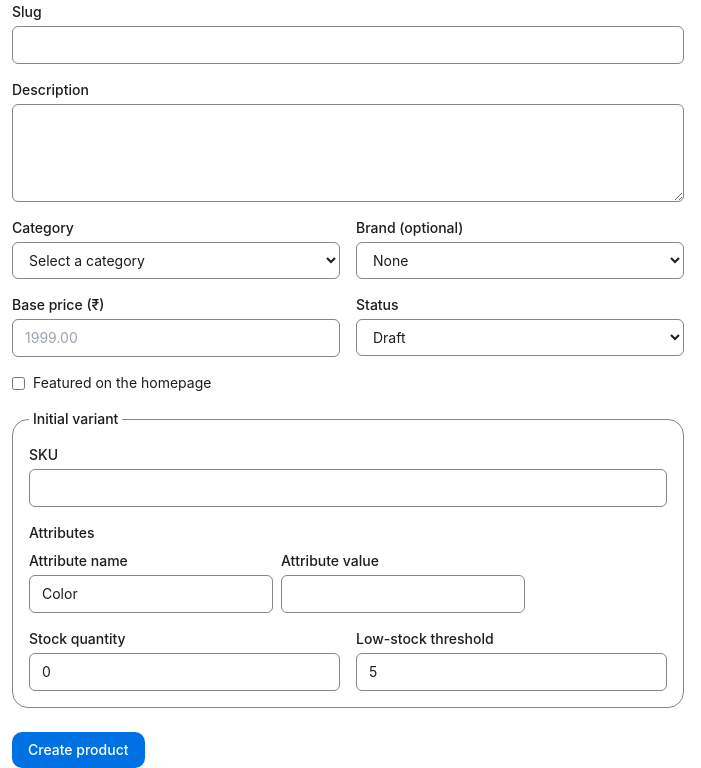
it: AdminProductFormPage (create) › shows a validation error when required fields are missing
This screenshot has width=701, height=768.
(page scrolled)
Expected: the dropdown labelled "Category" is shown, x1=12 y1=242 x2=340 y2=279
Click the button "Create product". click: [78, 750]
box: x1=12 y1=732 x2=144 y2=767
(page scrolled)
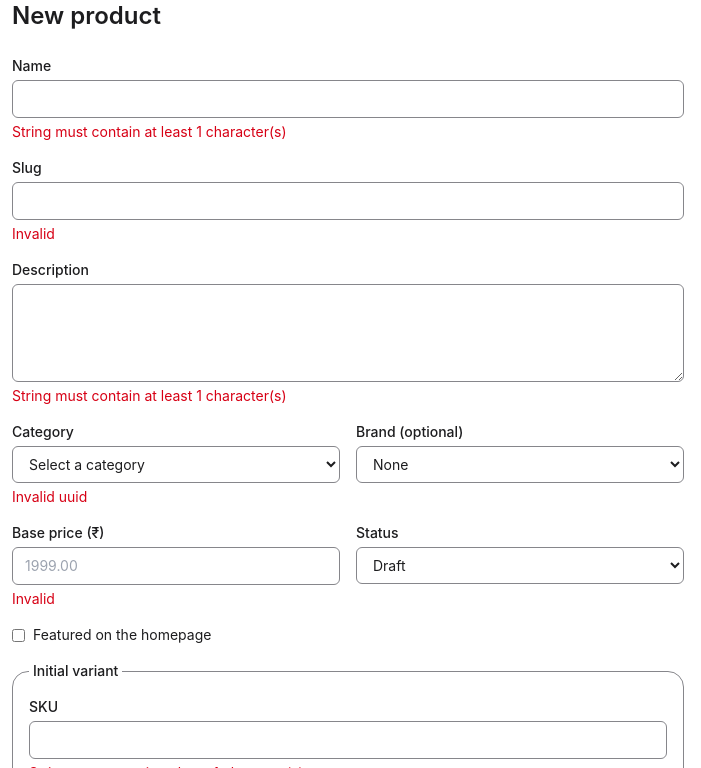
Expected: the 1st text "String must contain at least 1 character(s)" is shown, x1=12 y1=123 x2=287 y2=140
